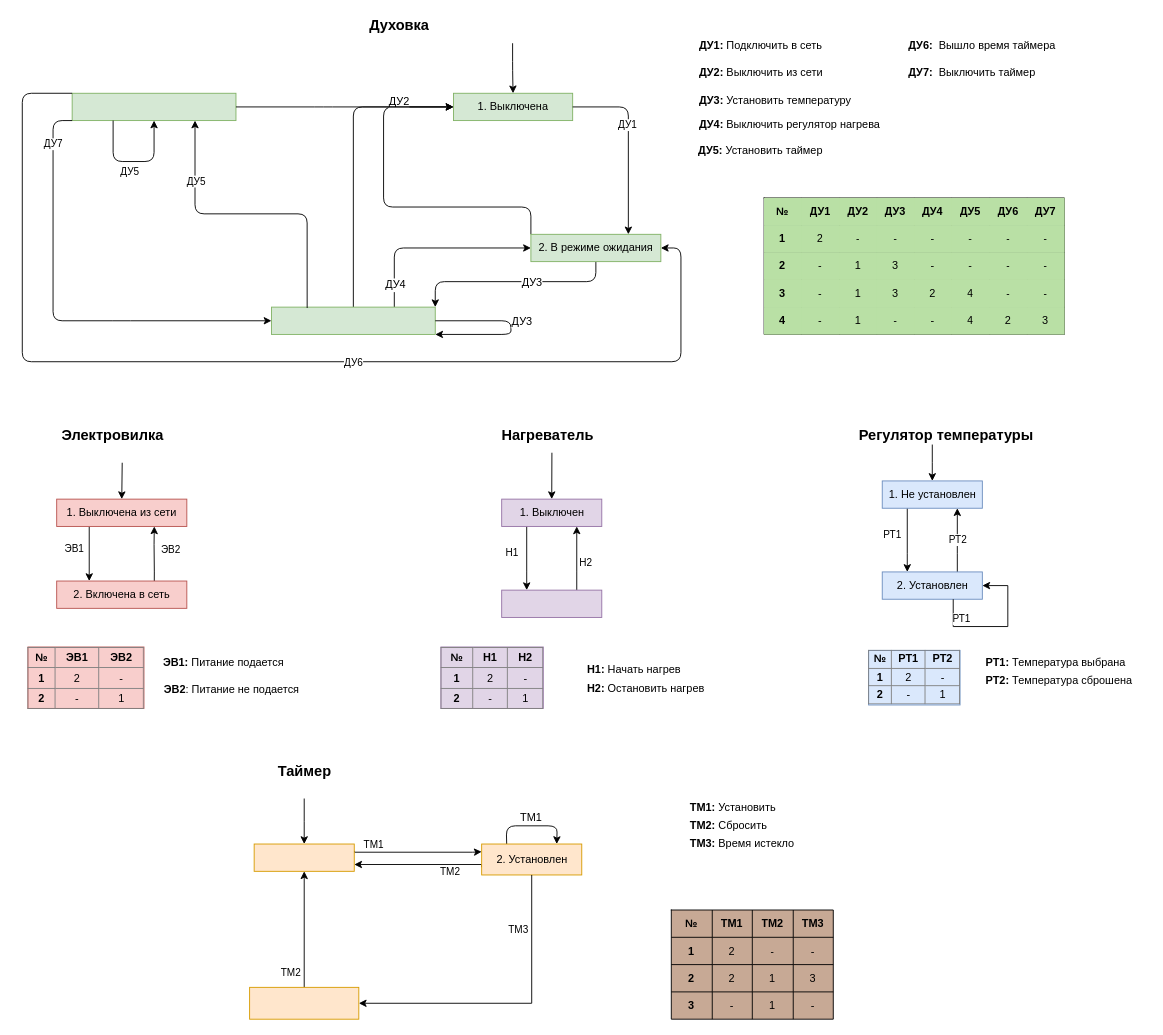
The diagram is 1163 pixels wide and 1035 high, and some of its shapes have lost their labels. Here are the shapes that lost their labels. From the top down, the centre of each, then its label:
the point at 153,106: 4. Таймер установлен
the point at 353,320: 3. В процессе приготовления
the point at 551,603: 2. Включен
the point at 303,857: 1. Сброшен
the point at 304,1002: 3. Время истекло
